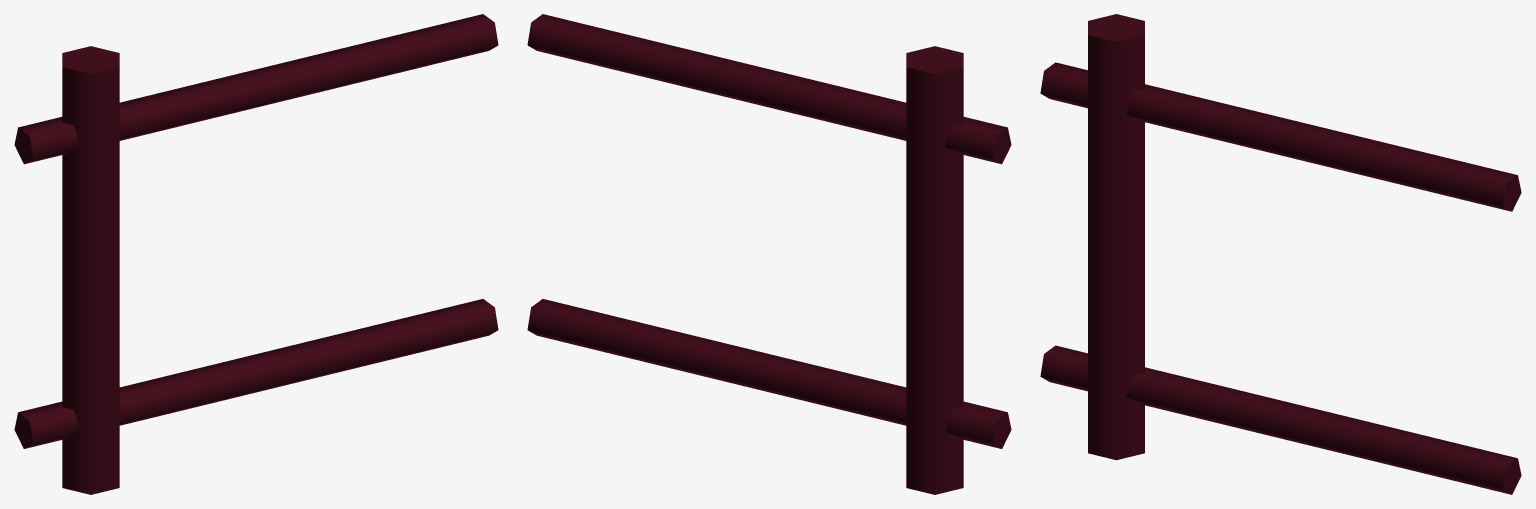
The model's file is Fence.fbx.
3 views of the same model, side by side, from view 1: azimuth 30°, elevation 25°; view 2: azimuth 150°, elevation 25°; view 3: azimuth 330°, elevation 25° (orthographic).
Visible parts, largest first — view 1: Fence; view 2: Fence; view 3: Fence.
Part boxes in pixels (x1,y1,x2,y2): Fence: (14, 14, 498, 494); Fence: (527, 14, 1011, 494); Fence: (1040, 14, 1521, 494).
Bounding box in the file's own units: 8.1 × 7 × 0.866.
